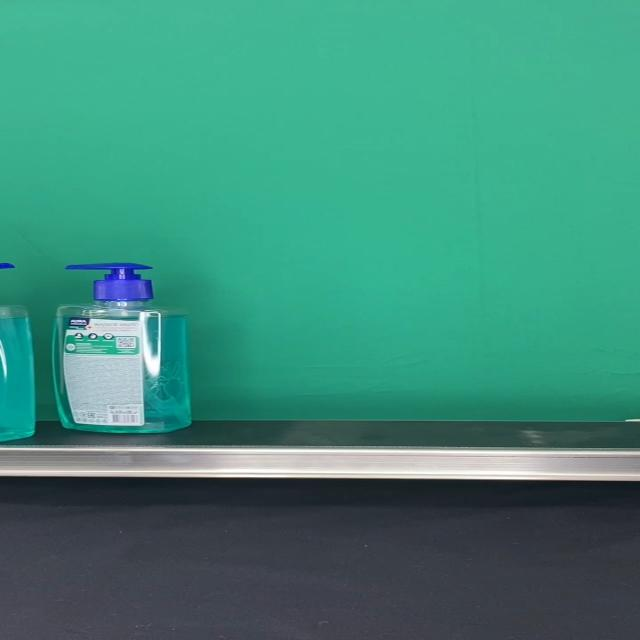Bottle: (51, 262, 193, 433)
Cap: (61, 262, 152, 302)
